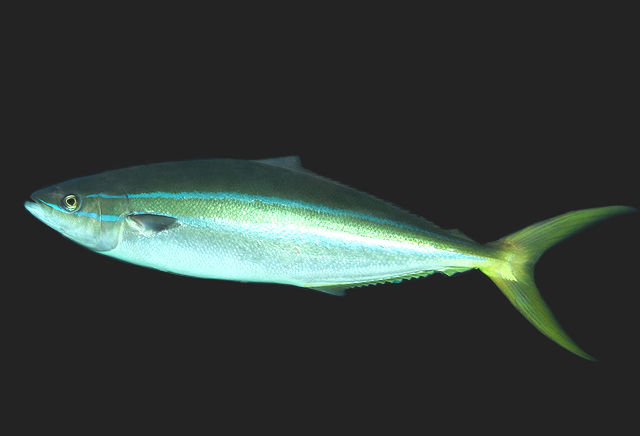fish: (25, 155, 636, 361)
